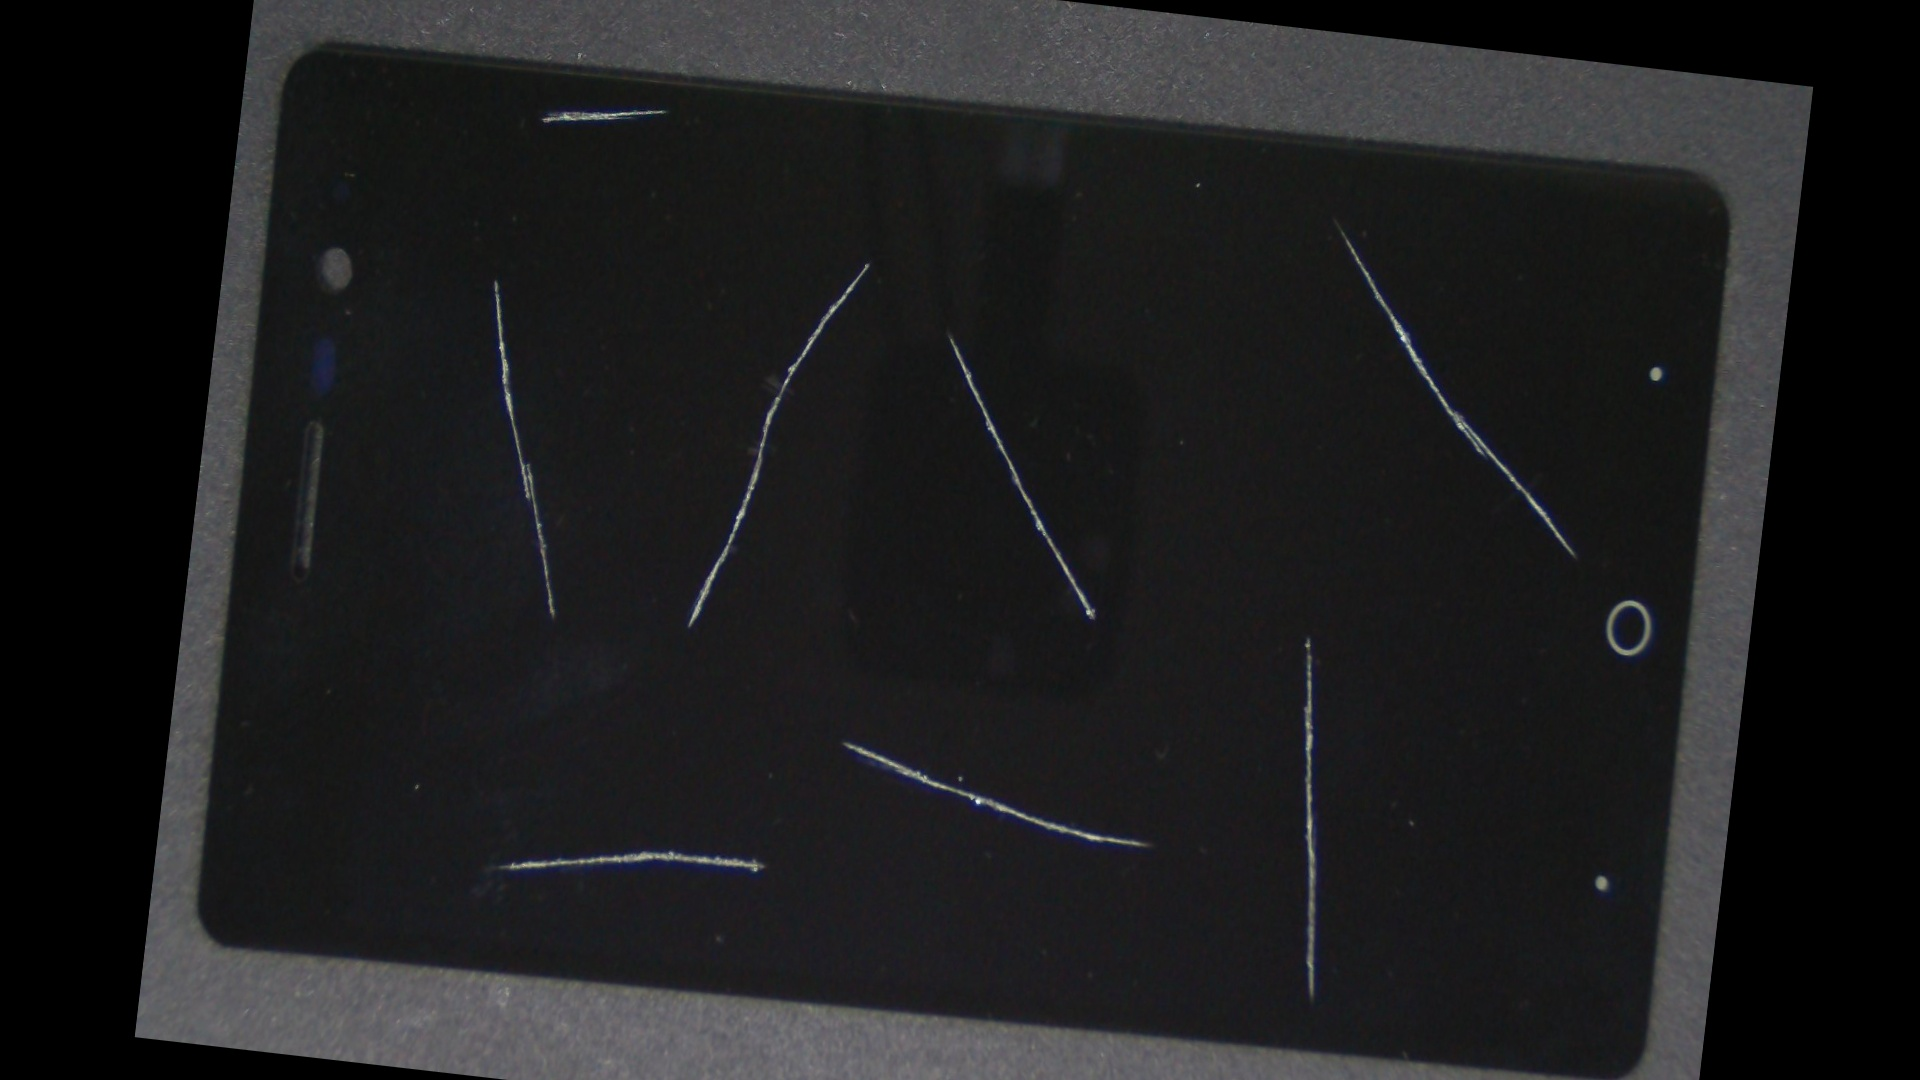oil: (719, 272, 1779, 985), (471, 324, 1226, 1080), (430, 381, 1100, 1080), (566, 120, 1328, 546), (779, 62, 1803, 361), (534, 84, 1200, 439), (340, 94, 649, 464), (444, 8, 873, 210)
